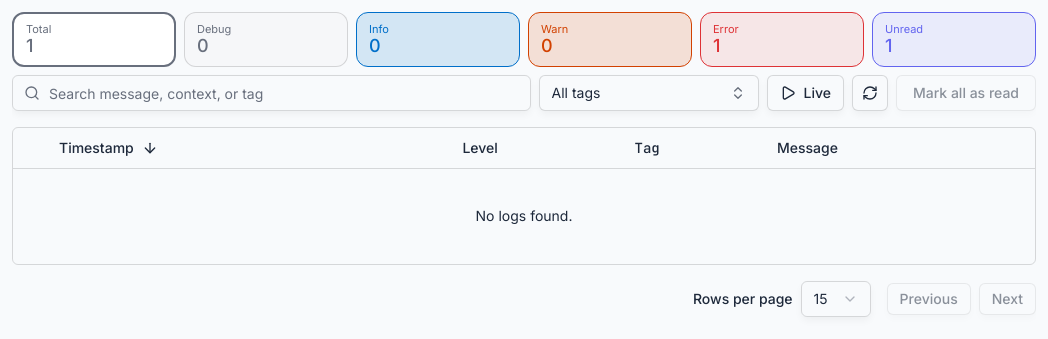
Test: LogsTable › should show filtered empty state with reset and refresh actions
This screenshot has width=1048, height=339.
Click the button with aria-label "error, 1" at (782, 40), box [700,12,864,67]
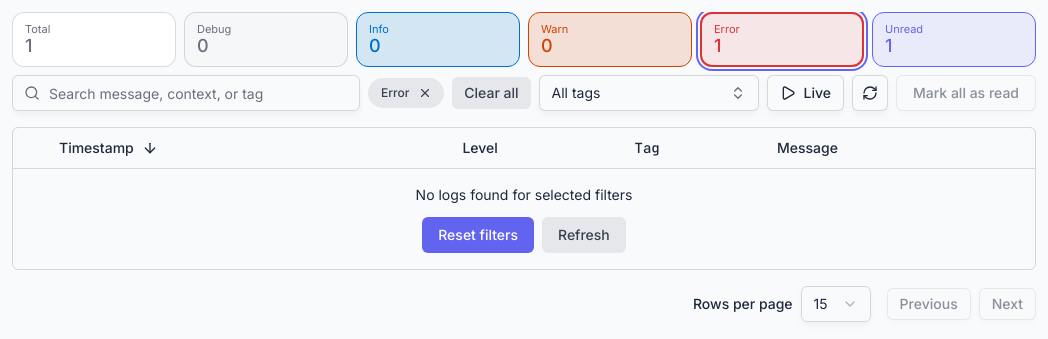
Expected: the text "No logs found for selected filters" is shown, [416,184,632,204]
Expected: the button "Reset filters" is shown, [422,216,534,252]
Expected: the button "Refresh" is shown, [542,216,626,252]
